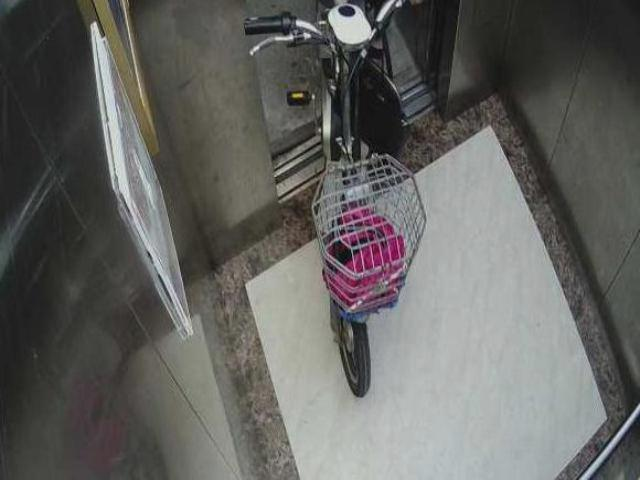emotor: (246, 5, 425, 406)
